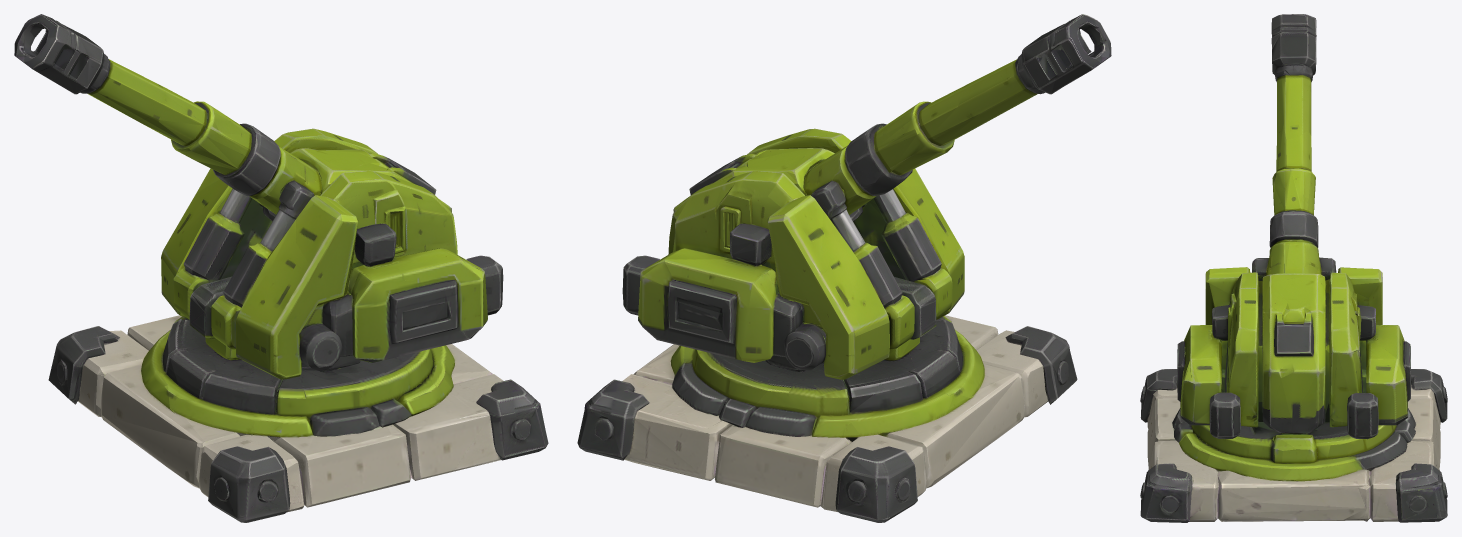
Rendered from m10_howitzer.glb.
The picture shows the model from 3 angles, left to right: view 1: azimuth 30°, elevation 25°; view 2: azimuth 150°, elevation 25°; view 3: azimuth 270°, elevation 25°; orthographic projection. The views are drawn at different scales.
Bounding box in the file's own units: 1.89 × 1.9 × 1.48.
Materials: 1 (1 with a texture image).
